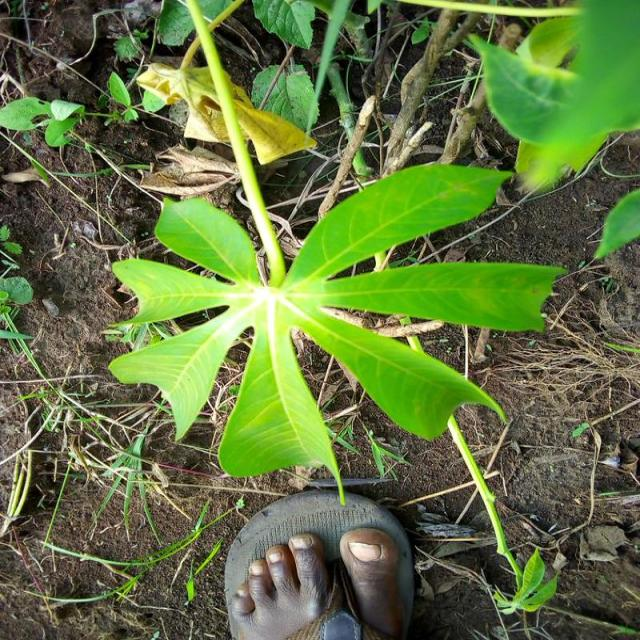cassava leaf: (104, 160, 566, 499)
